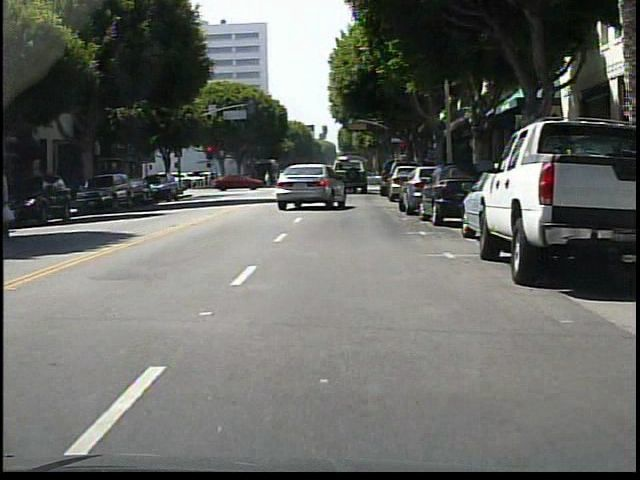person: (6, 161, 23, 241), (278, 169, 289, 193), (299, 168, 308, 192), (265, 171, 272, 190)
